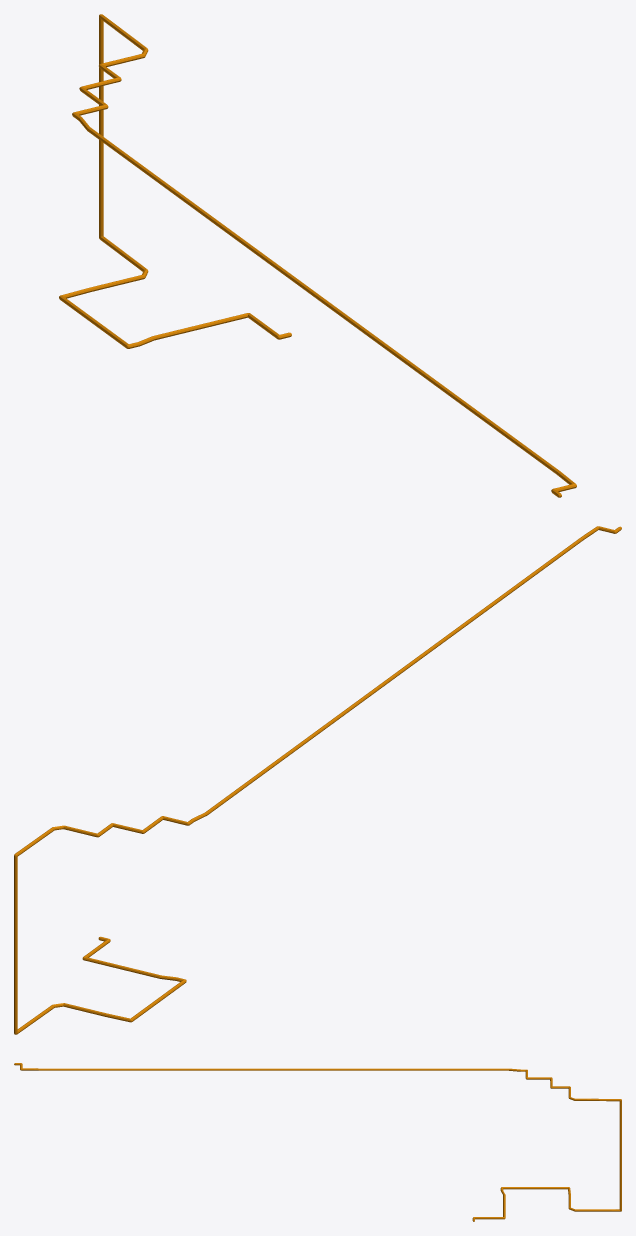
The picture shows the model from 3 angles, top to bottom: view 1: azimuth 30°, elevation 25°; view 2: azimuth 150°, elevation 25°; view 3: azimuth 270°, elevation 25°; orthographic projection. The views are drawn at different scales.
Size of the model in its own units: 913 by 1020 by 4985.
